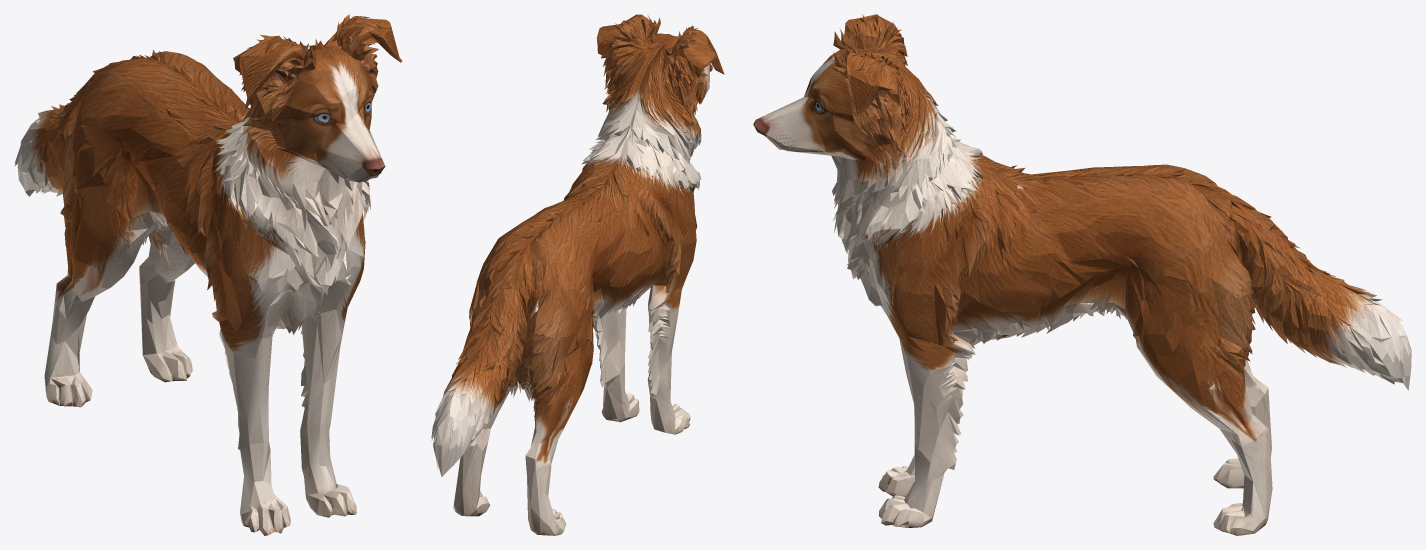
File: cao-meshy.glb
3 views of the same model, side by side, from view 1: azimuth 30°, elevation 25°; view 2: azimuth 150°, elevation 25°; view 3: azimuth 270°, elevation 25° (orthographic). The views are drawn at different scales.
Visible parts, largest first — view 1: output_unwrapped; view 2: output_unwrapped; view 3: output_unwrapped.
Boxes of the visible parts, left/top/right/bottom form: output_unwrapped: left=14, top=14, right=402, bottom=535; output_unwrapped: left=431, top=14, right=724, bottom=535; output_unwrapped: left=753, top=14, right=1411, bottom=535.
Size of the model in its own units: 0.4821 by 1.5 by 1.9.
Materials: 1 (1 with a texture image).
